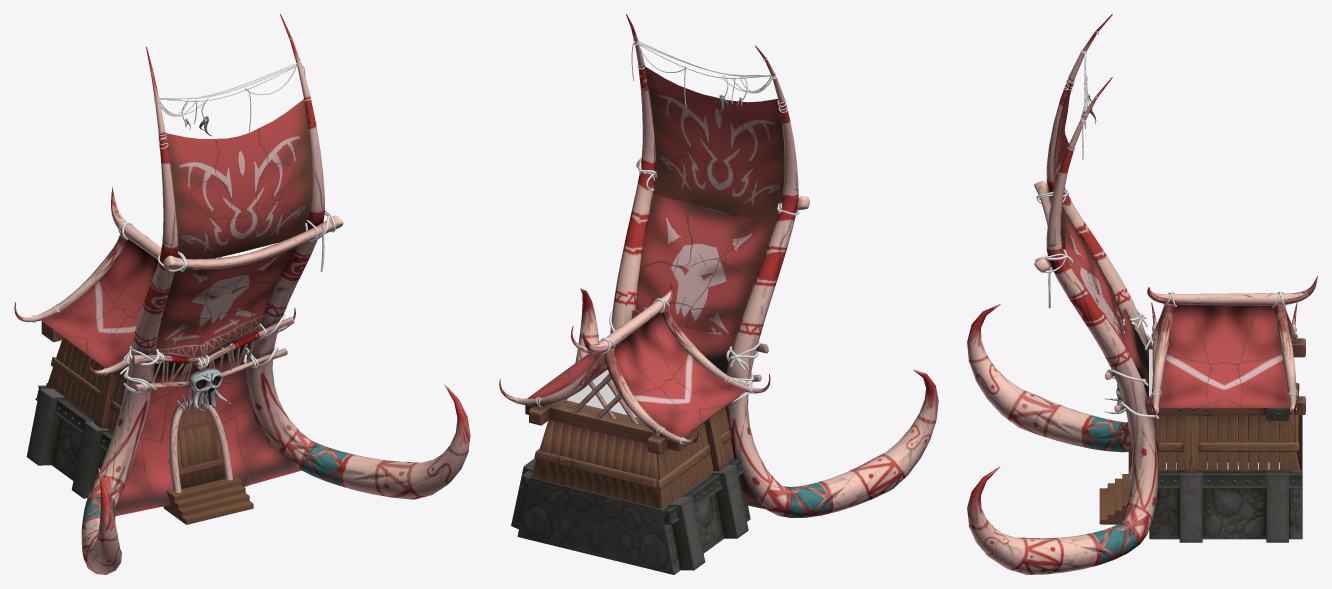
File: stylyzed_camp.fbx
The picture shows the model from 3 angles, left to right: view 1: azimuth 30°, elevation 25°; view 2: azimuth 150°, elevation 25°; view 3: azimuth 270°, elevation 25°; orthographic projection. The views are drawn at different scales.
Visible parts, largest first — view 1: Cube.010; view 2: Cube.010; view 3: Cube.010.
Part boxes in pixels (x1,y1,x2,y2): Cube.010: [14, 14, 470, 574]; Cube.010: [499, 14, 938, 574]; Cube.010: [967, 14, 1317, 574].
Size of the model in its own units: 335 by 418 by 287.
